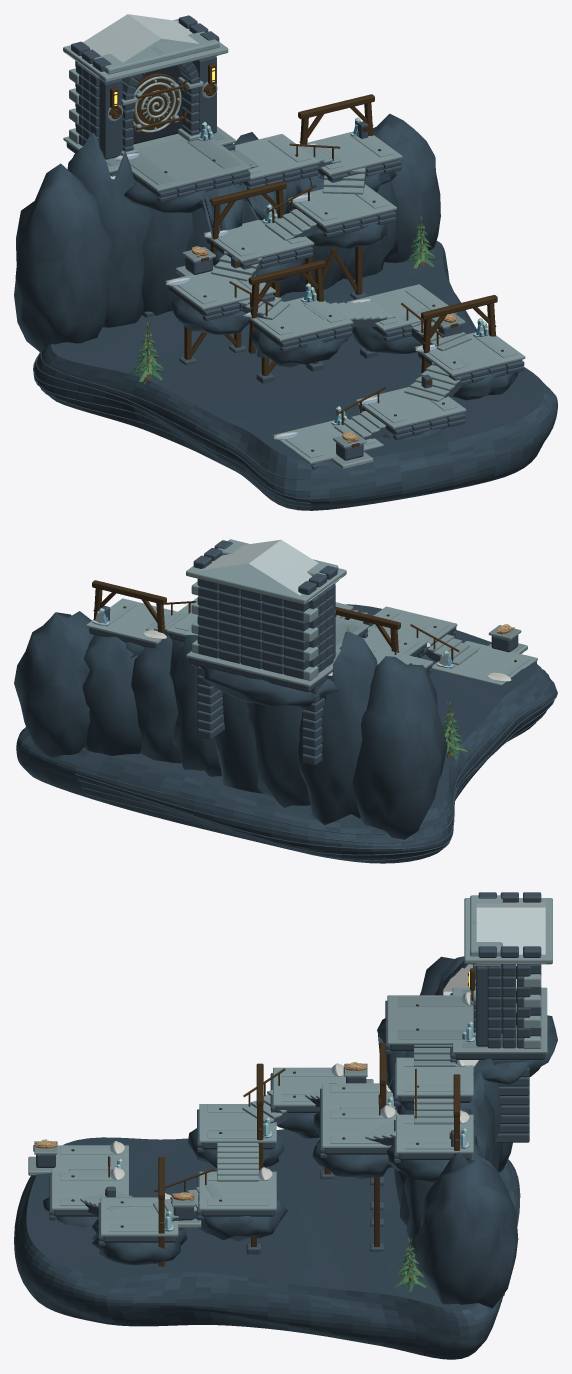
File: hibern.glb
3 views of the same model, one above another, from view 1: azimuth 30°, elevation 25°; view 2: azimuth 150°, elevation 25°; view 3: azimuth 270°, elevation 25° (orthographic). The views are drawn at different scales.
Parts seen in each view (by area): view 1: static_mineral, static_organic, static_metal; view 2: static_mineral, static_organic, static_metal; view 3: static_mineral, static_organic, static_metal.
Part boxes in pixels (x1,y1,x2,y2): static_mineral: (14,15,557,510); static_organic: (66,14,497,383); static_metal: (109,63,503,451); static_mineral: (14,539,557,863); static_organic: (92,539,467,759); static_metal: (110,601,516,664); static_mineral: (14,892,557,1359); static_organic: (158,902,545,1292); static_metal: (33,968,475,1227).
Bounding box in the file's own units: 20.8 × 14.32 × 22.1.
